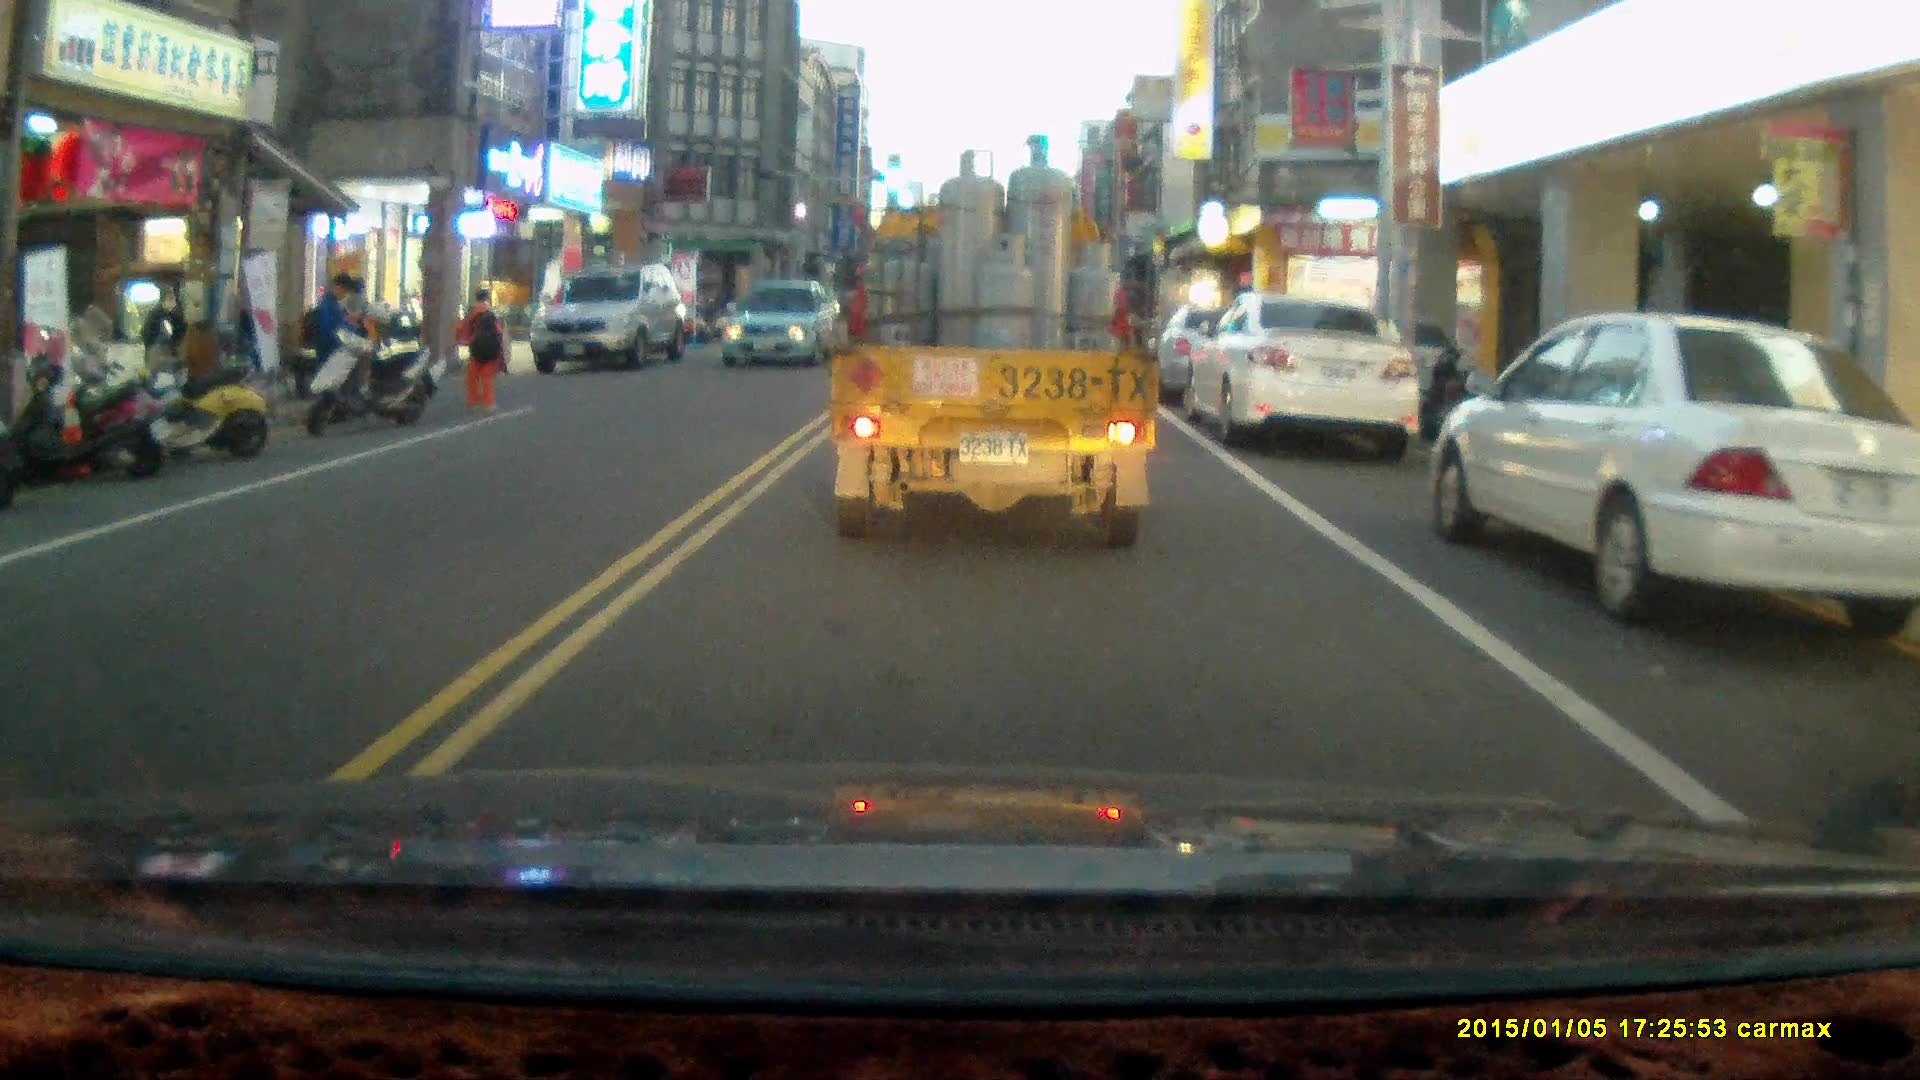pedestrian: (294, 274, 359, 428), (139, 283, 188, 434), (454, 287, 503, 409)
vehicle: (1433, 314, 1920, 639), (825, 142, 1163, 552), (1185, 297, 1422, 451), (528, 269, 692, 377), (722, 282, 846, 370)
